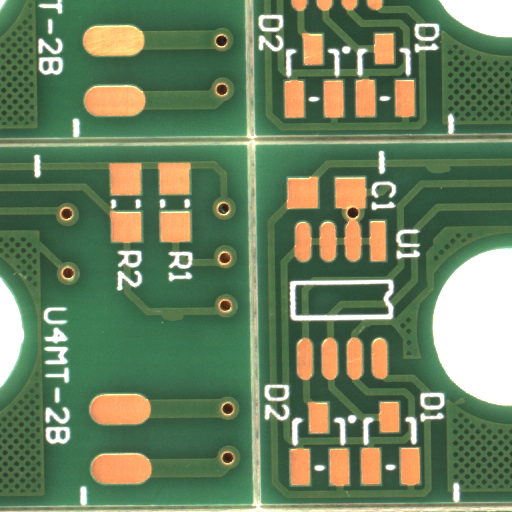Spur: (437, 169, 468, 181), (172, 316, 199, 327)
